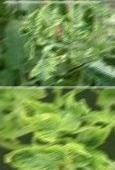Tomato leaf yellow virus: (10, 144, 99, 168), (32, 106, 82, 129), (38, 127, 64, 144), (27, 36, 37, 59), (32, 11, 42, 33), (46, 54, 58, 72), (64, 21, 74, 40)
